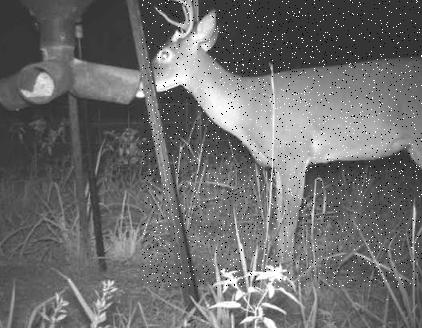Deer: (142, 0, 422, 288)
